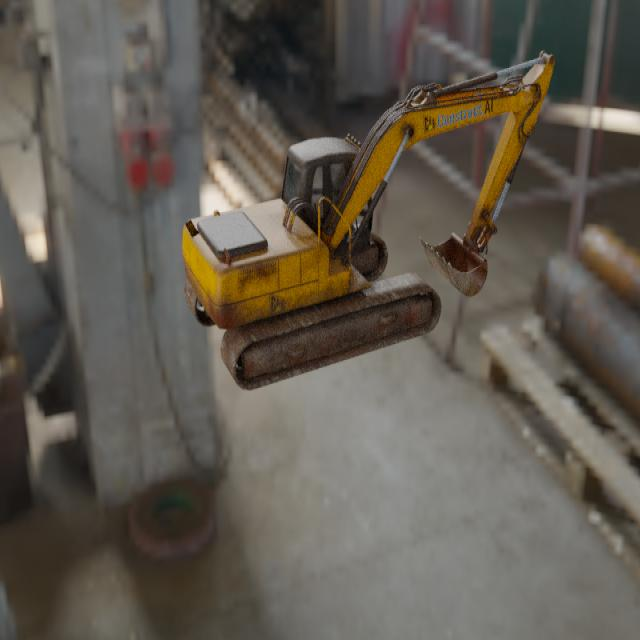excavator: (181, 49, 555, 391)
